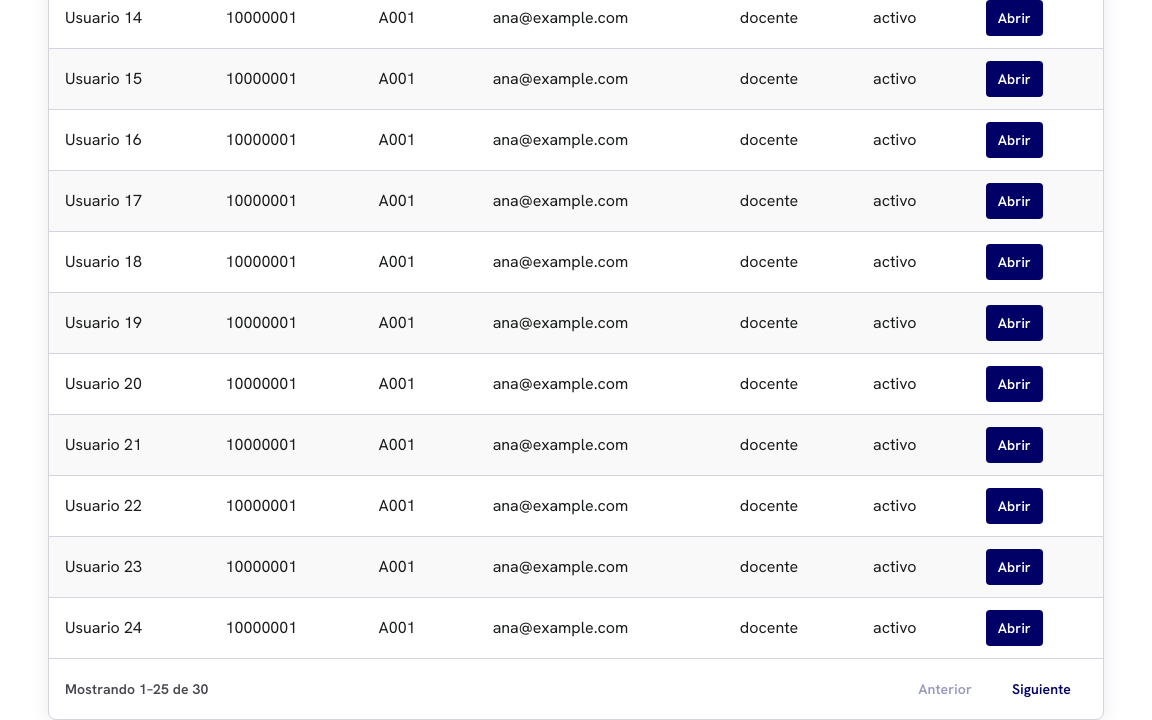
Test: UsuariosPage › [11.2] cambiar de filtro mientras se está en la página 2 vuelve a la página 1
(page scrolled)
Click the button "Siguiente" at coordinates (1042, 689), box x1=996 y1=671 x2=1087 y2=707
(page scrolled)
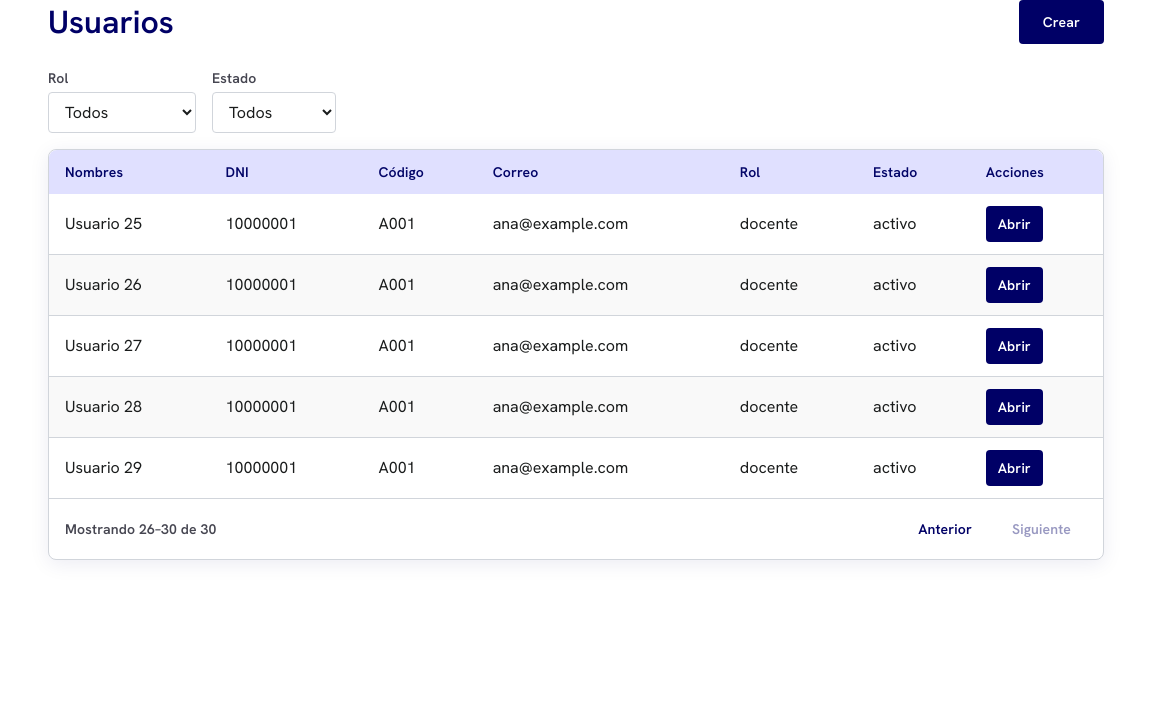
Expected: the text "Usuario 25" is shown, x1=49 y1=194 x2=210 y2=254
Select "Docente" in the dropdown labelled "Rol" at coordinates (122, 112), box x1=48 y1=92 x2=196 y2=133
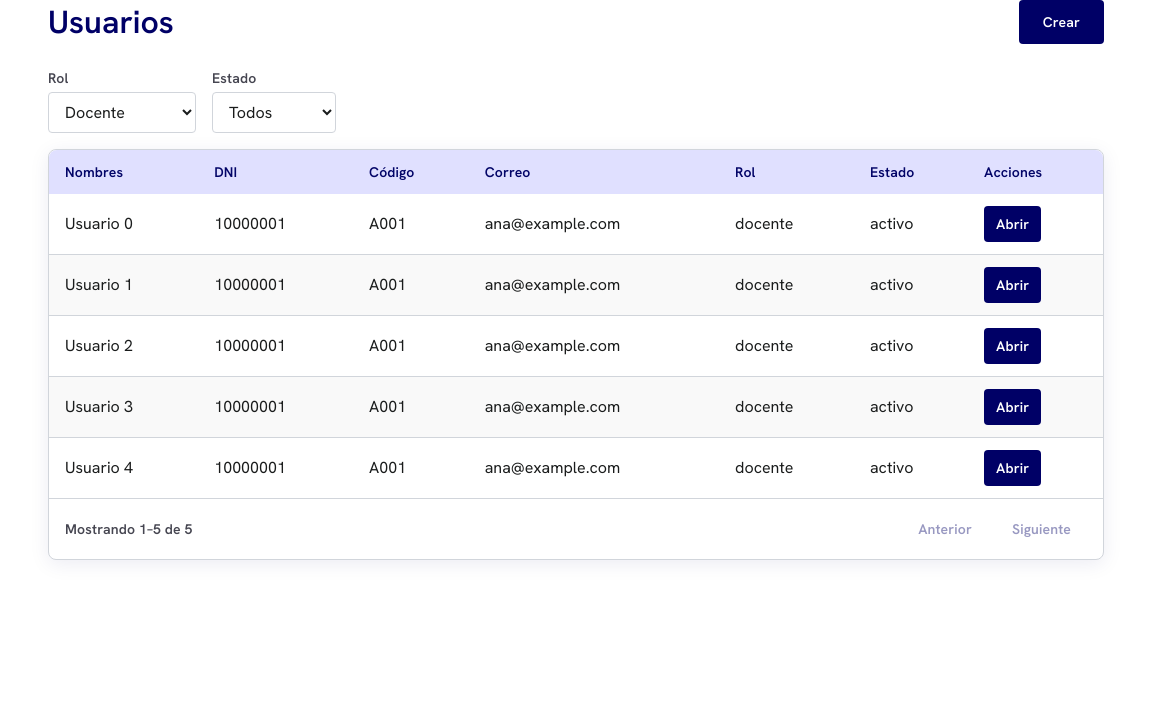
Expected: the text "Mostrando 1–5 de 5" is shown, x1=65 y1=519 x2=192 y2=539
